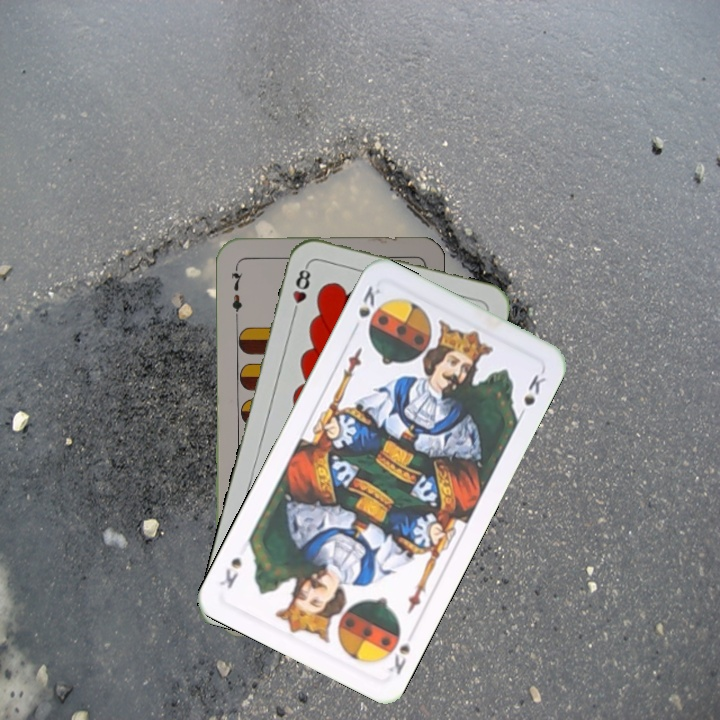E7: (227, 261, 245, 320)
H8: (288, 261, 314, 319)
SK: (348, 281, 384, 336), (384, 638, 413, 678)
